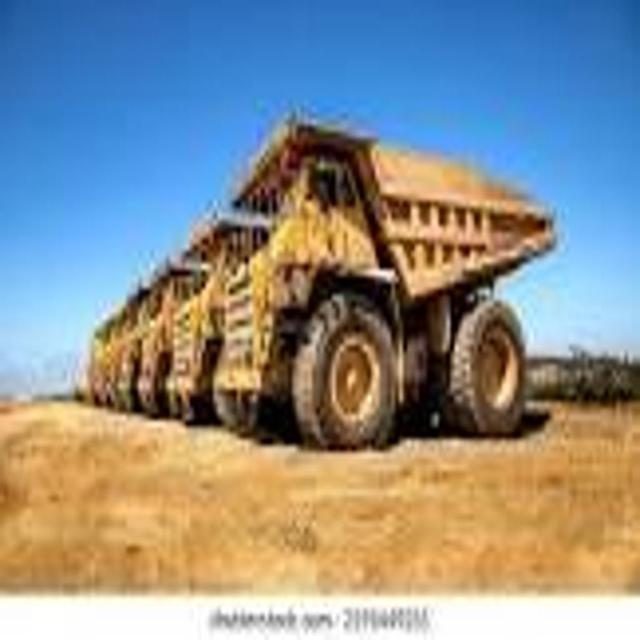dump_truck: (232, 112, 559, 447)
